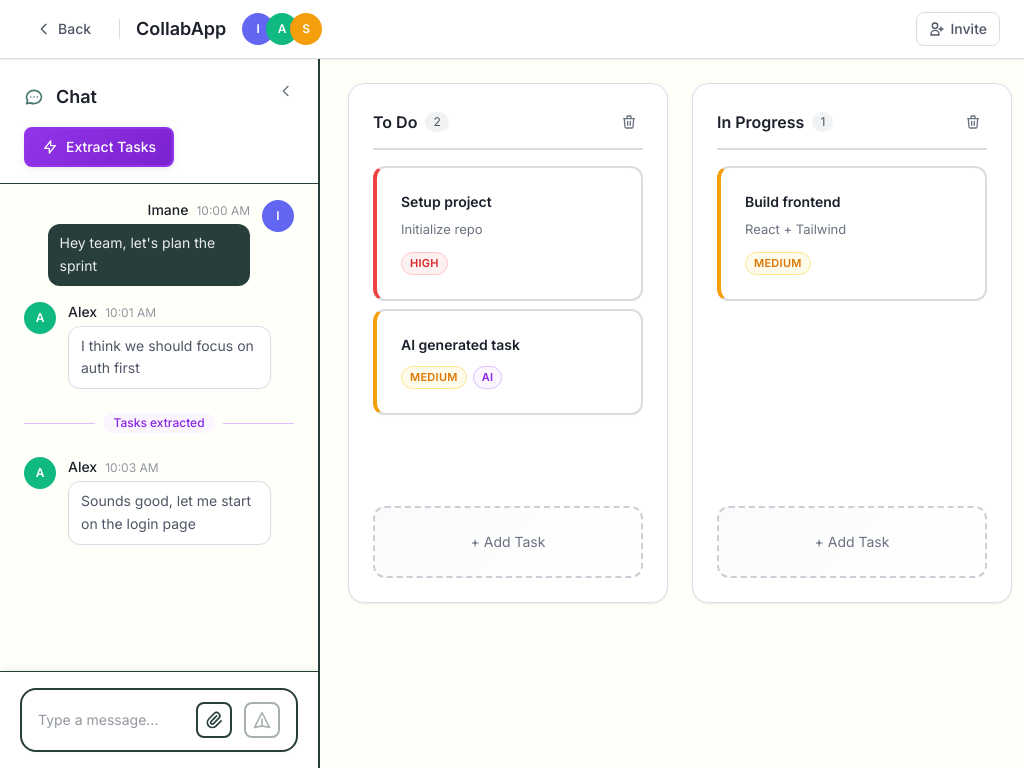
Test: ProjectPage › generates invite link
Click the button "Invite". click: x=958, y=29
box: [916,12,1000,46]
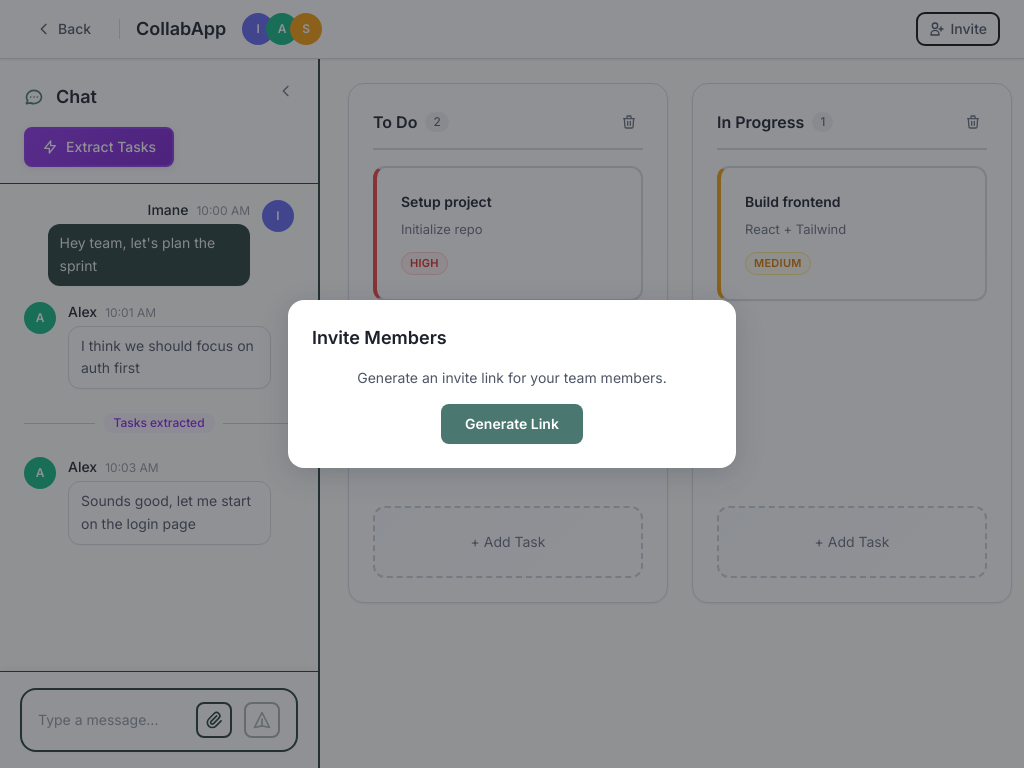
Click the button "Generate Link". click: x=512, y=424
box: [441,404,583,444]
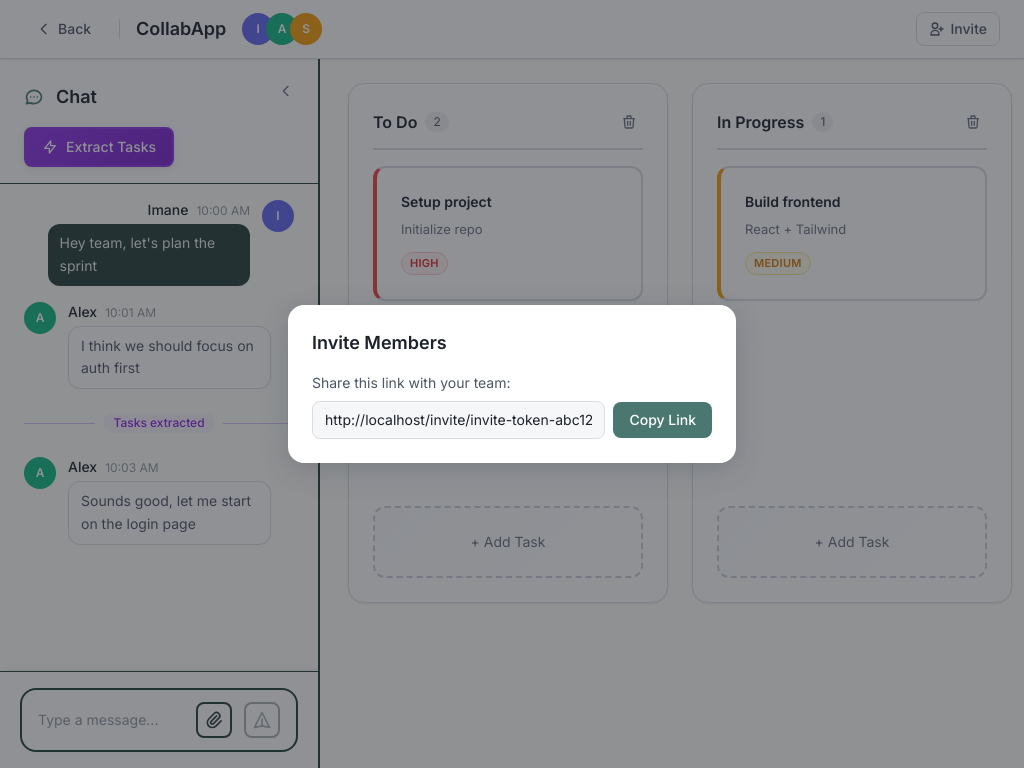
Result: the field showing "invite-token-abc123" is shown at [312,401,605,439]
